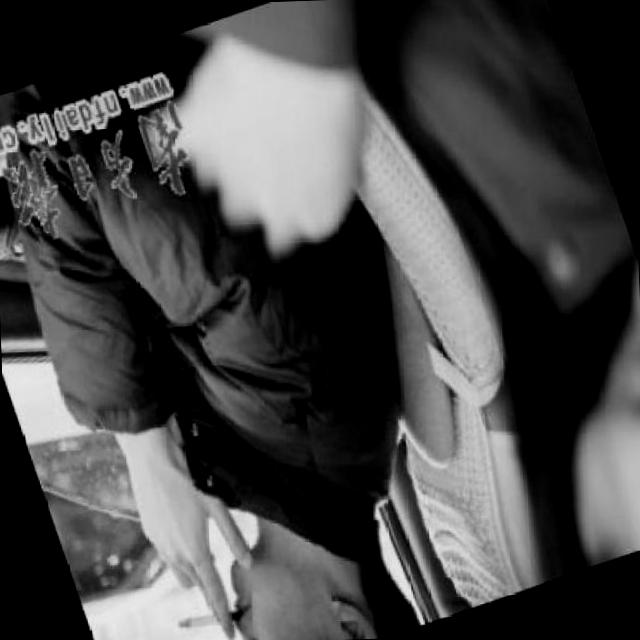smoke: (170, 595, 244, 640)
